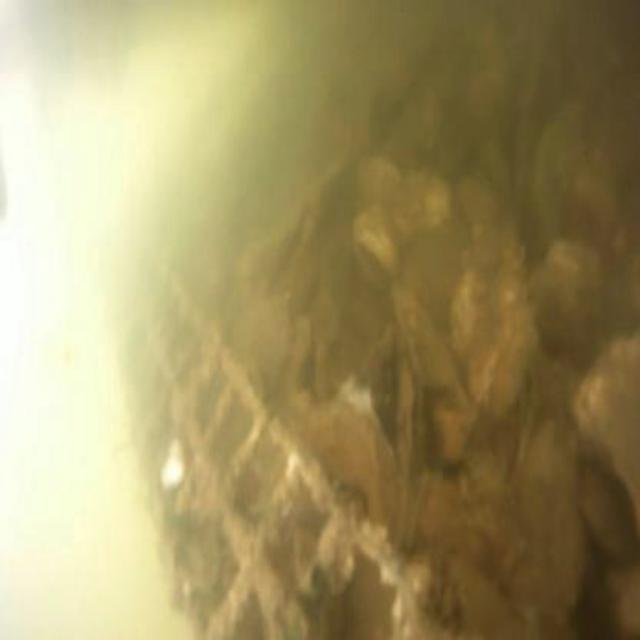Oyster-Closed: (388, 282, 479, 470), (577, 333, 640, 501), (522, 420, 577, 608), (456, 276, 528, 416), (529, 108, 600, 249), (532, 242, 604, 352), (462, 140, 521, 274), (363, 167, 456, 240), (391, 345, 427, 523), (352, 209, 403, 296)
